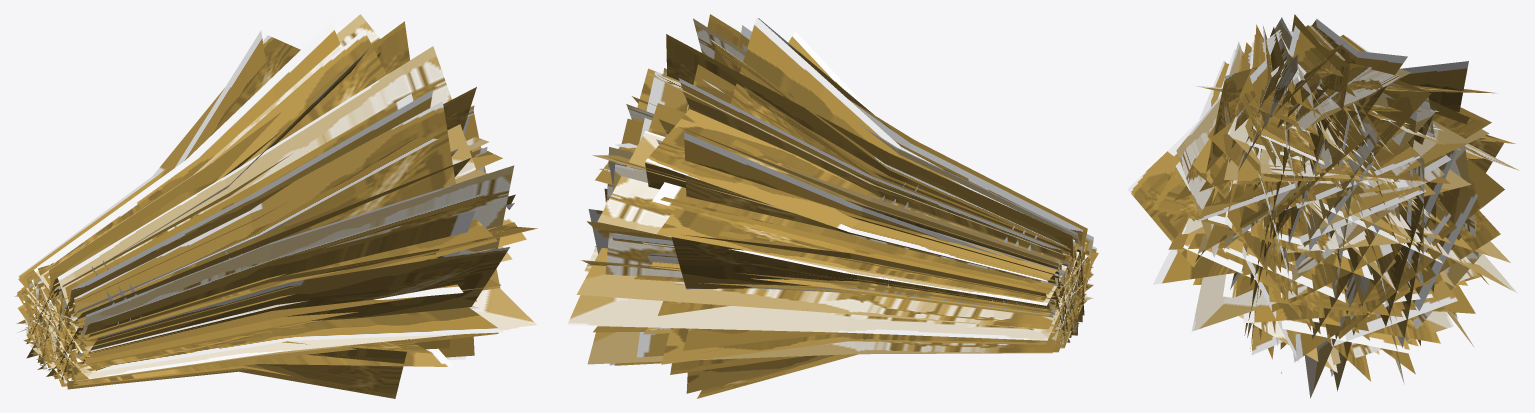
The model's file is MS_WindmillWheat1.fbx.
3 renders of one model, left to right at view 1: azimuth 30°, elevation 25°; view 2: azimuth 150°, elevation 25°; view 3: azimuth 270°, elevation 25°, orthographic. The views are drawn at different scales.
Visible parts, largest first — view 1: Plane.000; view 2: Plane.000; view 3: Plane.000.
Part boxes in pixels (<box>): Plane.000: <box>14,14,538,398</box>; Plane.000: <box>567,14,1098,398</box>; Plane.000: <box>1127,14,1519,398</box>.
Bounding box in the file's own units: 752 × 565 × 614.
